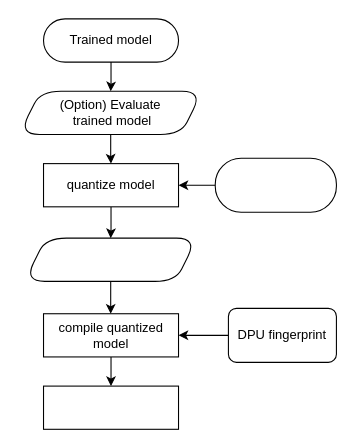
The diagram is 355 pixels wide and 448 high, and some of its shapes have lost their labels. Here are the shapes that lost their labels. From the top down, the centre of each, then its label:
At (x=275, y=184): "training dataset".
At (x=110, y=259): "( Option ) evaluate quantized model".
At (x=110, y=407): "Deploy xmodel on target".
